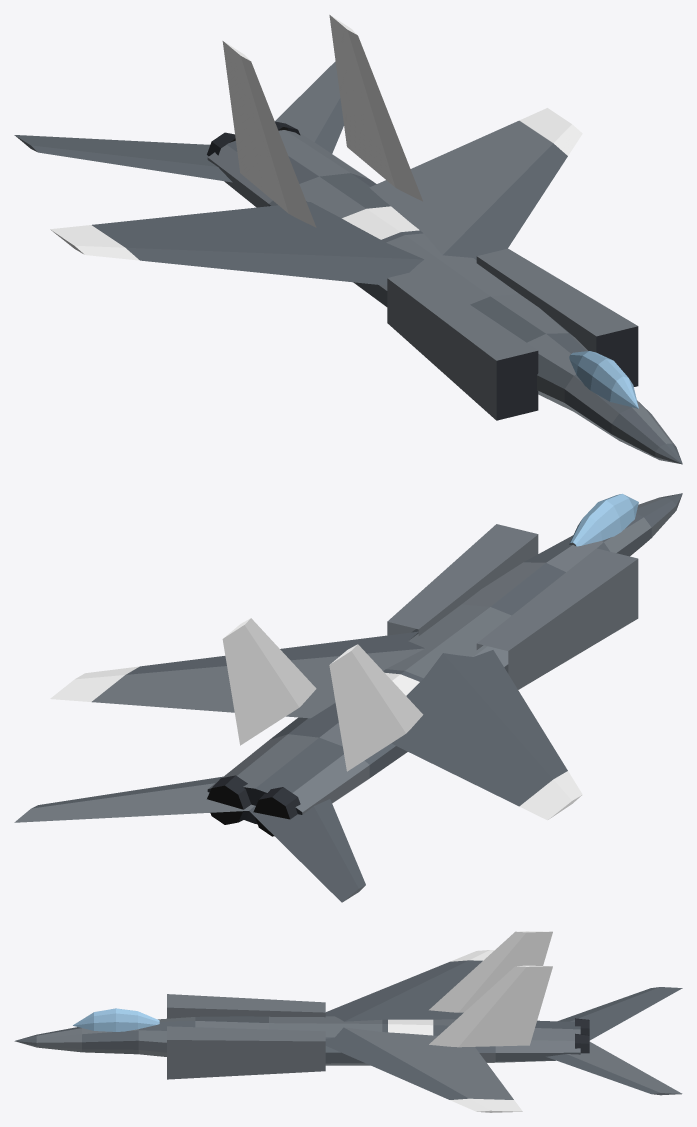
3 renders of one model, top to bottom at view 1: azimuth 30°, elevation 25°; view 2: azimuth 150°, elevation 25°; view 3: azimuth 270°, elevation 25°, orthographic. The views are drawn at different scales.
Parts seen in each view (by area): view 1: body; view 2: body; view 3: body.
Part boxes in pixels (x1=…): body: x1=14, y1=14, x2=682, y2=464; body: x1=14, y1=493, x2=682, y2=902; body: x1=14, y1=931, x2=682, y2=1112.
Size of the model in its own units: 13.05 by 4.16 by 22.93.
